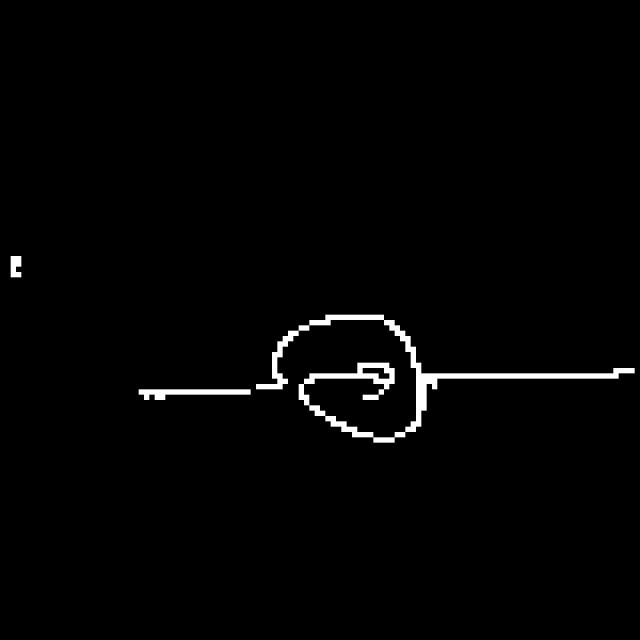current_source: (265, 302, 437, 449)
